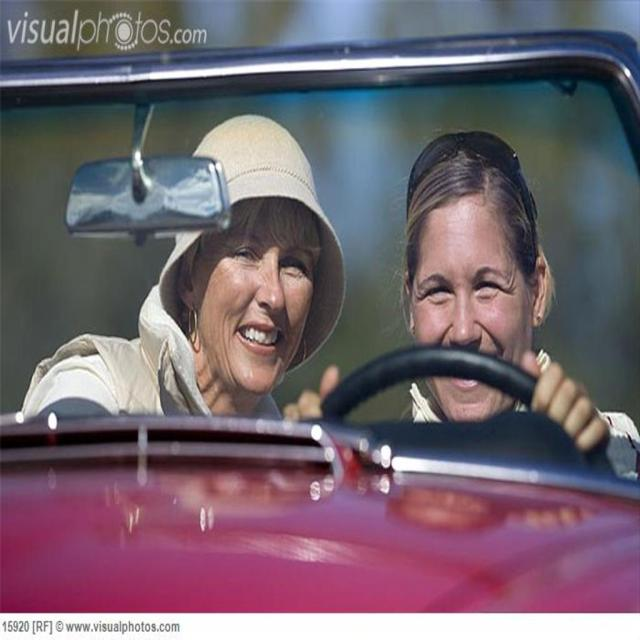Face: (406, 163, 553, 414), (196, 199, 323, 400)
